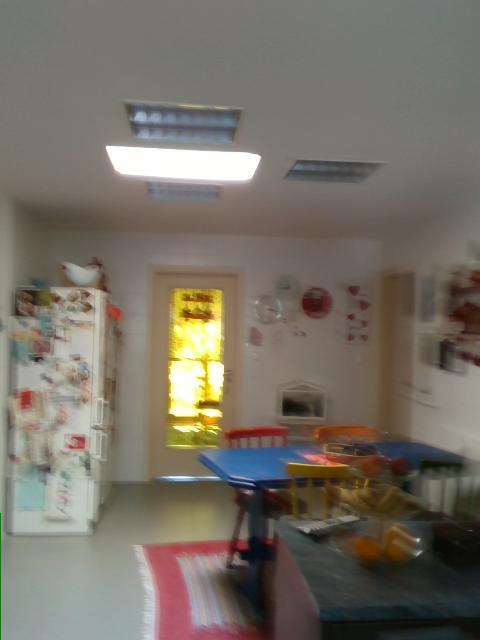door: (148, 266, 239, 481)
